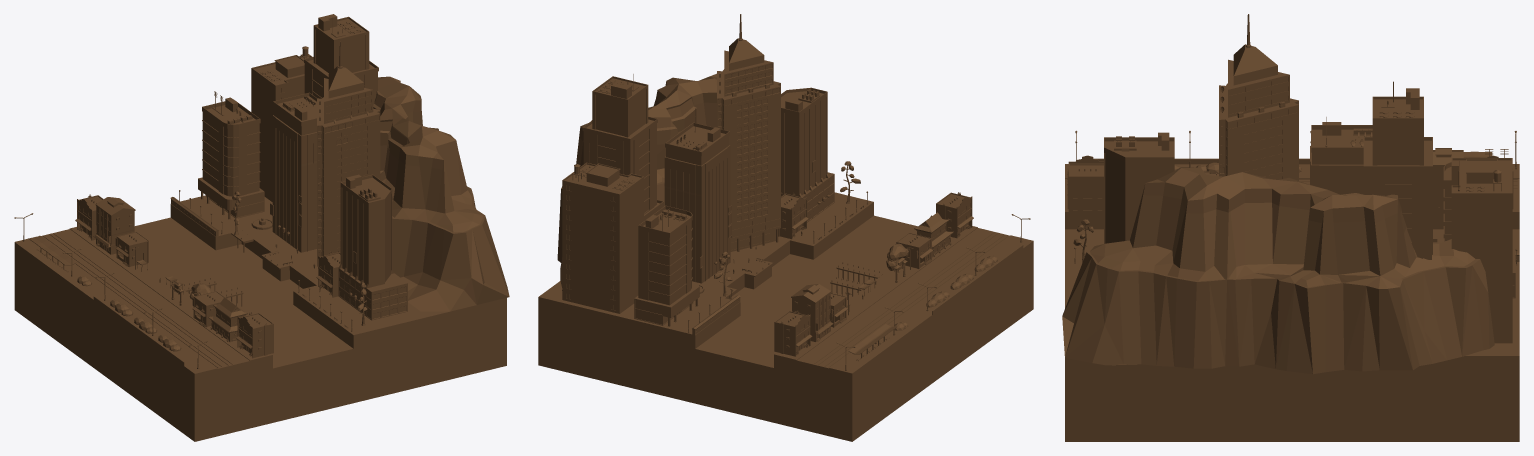
Rendered from polyperfect-hongkong-base.fbx.
3 views of the same model, side by side, from view 1: azimuth 30°, elevation 25°; view 2: azimuth 150°, elevation 25°; view 3: azimuth 270°, elevation 25° (orthographic). The views are drawn at different scales.
Visible parts, largest first — view 1: polyperfect-hongkong-base; view 2: polyperfect-hongkong-base; view 3: polyperfect-hongkong-base.
Part boxes in pixels (x1,y1,x2,y2): polyperfect-hongkong-base: (14, 14, 509, 441); polyperfect-hongkong-base: (538, 14, 1033, 441); polyperfect-hongkong-base: (1062, 14, 1519, 441).
Size of the model in its own units: 22.42 by 18.32 by 20.53.
